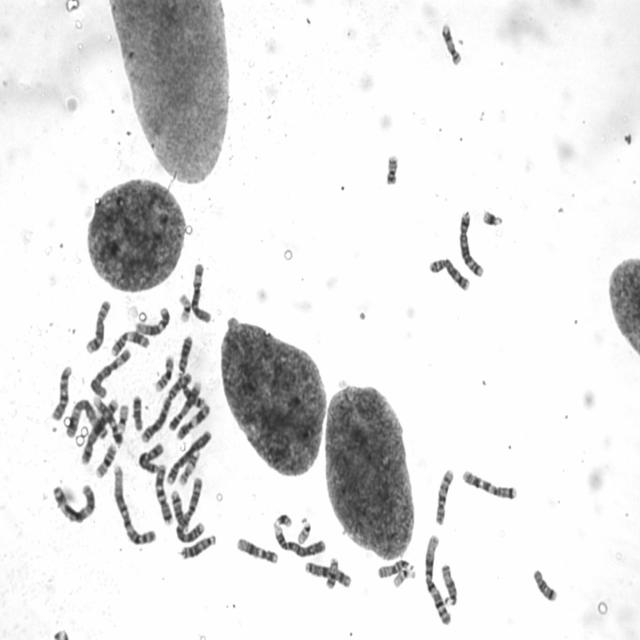A1: (110, 464, 156, 546), (425, 533, 452, 625)
A2: (140, 372, 193, 444), (176, 476, 206, 544)
A3: (52, 482, 96, 524), (66, 398, 108, 439)
B4: (166, 430, 212, 486), (274, 528, 326, 558)
B5: (81, 398, 119, 466), (459, 209, 485, 277)
C10: (434, 468, 455, 526), (52, 366, 72, 421)
C11: (174, 405, 210, 441), (110, 332, 150, 358)
C12: (236, 537, 278, 565), (134, 307, 170, 336)
C6: (90, 348, 132, 398), (191, 262, 212, 324)
C7: (462, 470, 518, 500), (154, 462, 174, 524)
C8: (85, 299, 111, 355), (428, 258, 470, 292)
C9: (168, 381, 201, 432), (92, 396, 123, 448)
D13: (180, 534, 216, 560), (178, 334, 194, 378)
D14: (177, 373, 205, 409), (170, 489, 189, 532)
D15: (377, 560, 415, 580), (441, 564, 458, 607)
E16: (154, 355, 174, 392), (96, 444, 117, 478)
E17: (441, 22, 464, 68), (178, 449, 200, 485)
E18: (532, 568, 557, 606), (132, 394, 144, 432)
F19: (178, 293, 191, 323), (117, 404, 129, 434)
F20: (384, 154, 401, 188), (326, 559, 338, 590)
G21: (480, 207, 506, 230), (272, 513, 292, 528)
G22: (390, 569, 416, 589), (297, 517, 311, 543)
X: (304, 562, 352, 588), (138, 441, 164, 474)
